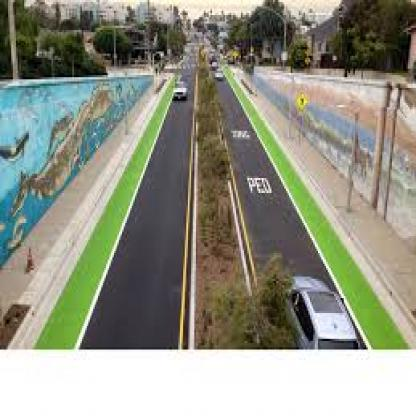car: (265, 258, 367, 361), (165, 76, 191, 110), (212, 64, 224, 82)
